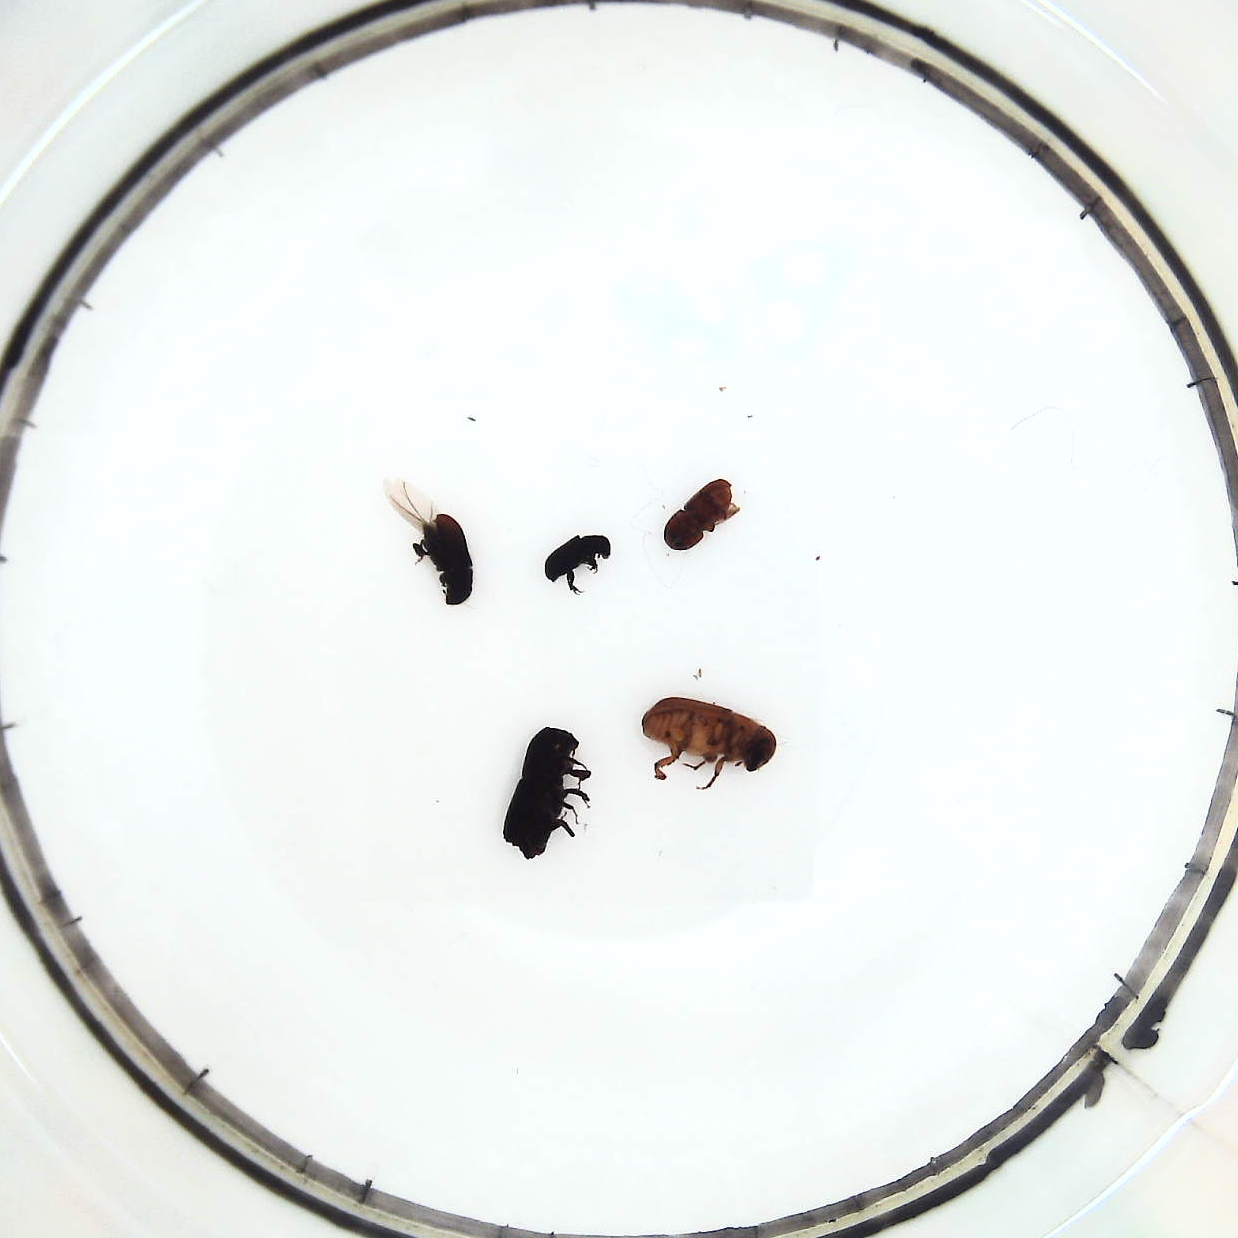Boerner: (499, 722, 599, 864)
Leconte: (638, 693, 787, 796)
armandi: (392, 486, 480, 613)
coleoptera: (543, 527, 619, 596)
linnaeus: (660, 474, 741, 557)
